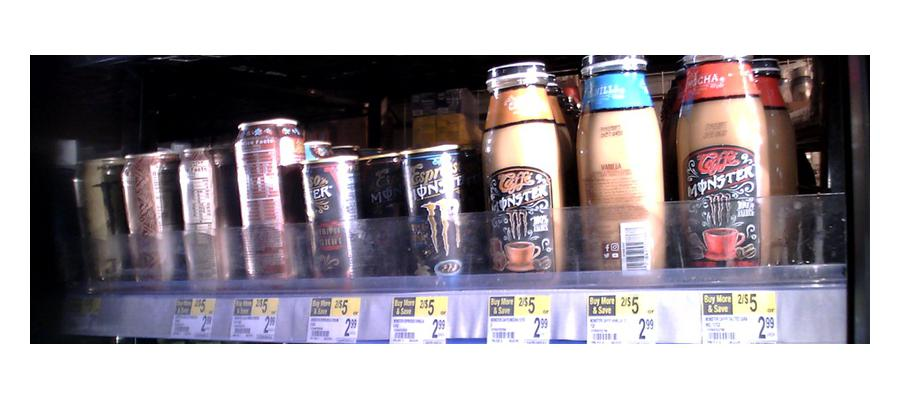bottle: (674, 64, 783, 279), (574, 56, 671, 278), (484, 56, 571, 287), (230, 118, 300, 279), (402, 137, 472, 283), (176, 139, 232, 286), (119, 147, 176, 289), (302, 144, 359, 281), (81, 157, 124, 283), (362, 152, 402, 282)
